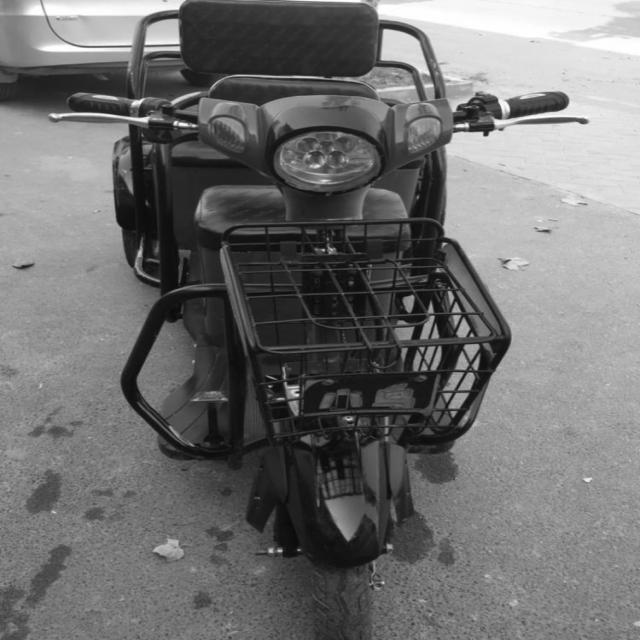car: (3, 0, 188, 97)
tricycle: (49, 2, 596, 639)
